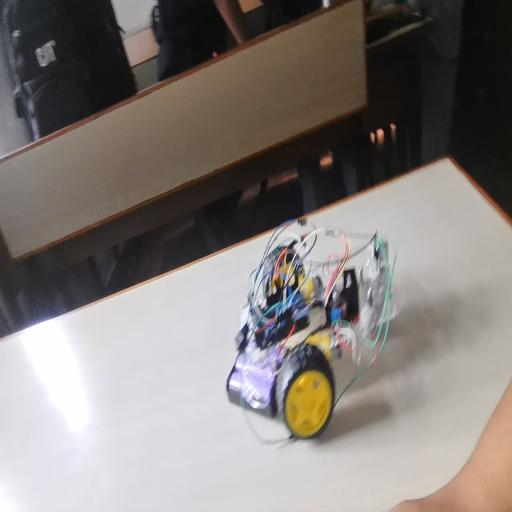car: (229, 222, 410, 464)
